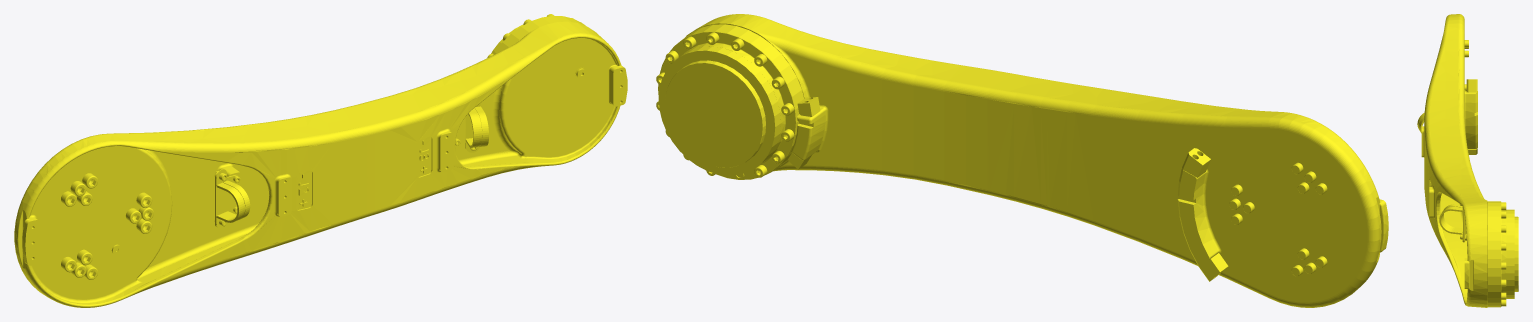
3 renders of one model, left to right at view 1: azimuth 30°, elevation 25°; view 2: azimuth 150°, elevation 25°; view 3: azimuth 270°, elevation 25°, orthographic. The views are drawn at different scales.
Parts seen in each view (by area): view 1: Link2; view 2: Link2; view 3: Link2.
Boxes of the visible parts, x1,y1,x2,y2 form: Link2: (14, 14, 627, 307); Link2: (656, 14, 1388, 307); Link2: (1417, 14, 1518, 307).
Bounding box in the file's own units: 0.9466 × 0.1806 × 0.2424.
